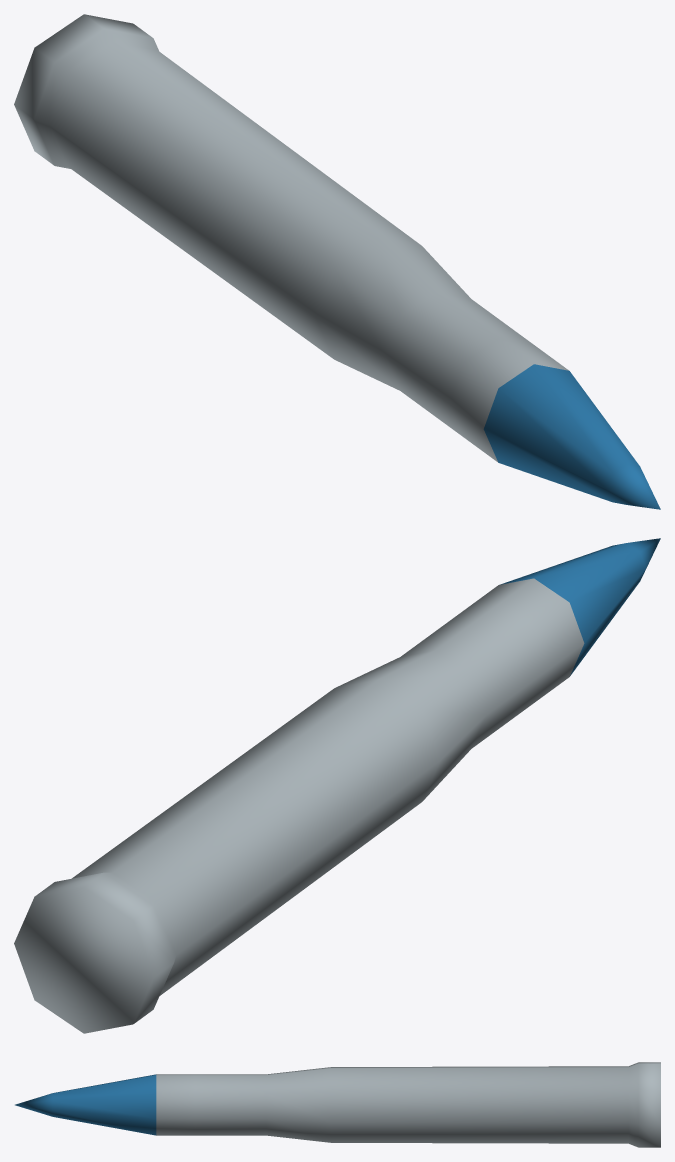
File: cannon_20_round_game.glb
The picture shows the model from 3 angles, top to bottom: view 1: azimuth 30°, elevation 25°; view 2: azimuth 150°, elevation 25°; view 3: azimuth 270°, elevation 25°; orthographic projection. The views are drawn at different scales.
Visible parts, largest first — view 1: AMMO_MESH.018; view 2: AMMO_MESH.018; view 3: AMMO_MESH.018.
Part boxes in pixels (left/top/right/bottom): AMMO_MESH.018: left=14, top=14, right=660, bottom=509; AMMO_MESH.018: left=14, top=538, right=660, bottom=1033; AMMO_MESH.018: left=15, top=1062, right=660, bottom=1147.
Bounding box in the file's own units: 0.028 × 0.028 × 0.2.
